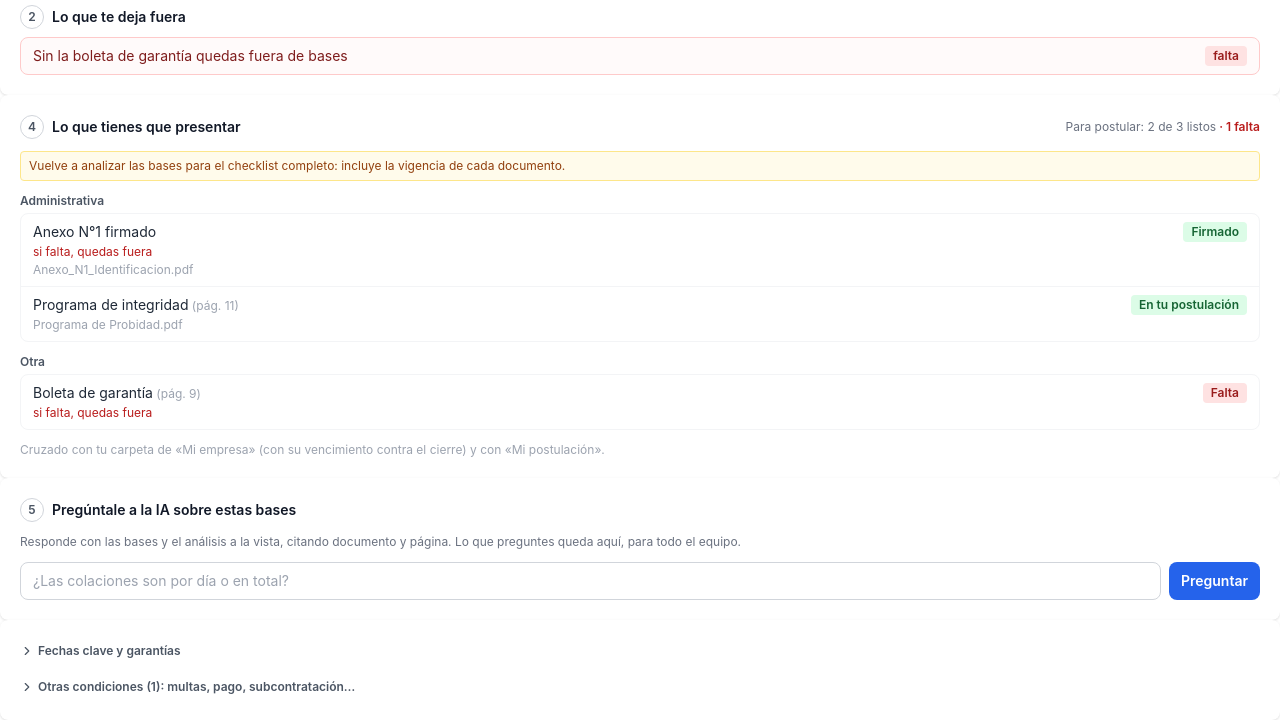
Scenario: Lo que piden las bases › arriba lo que te deja fuera, con su estado; las demás condiciones, plegadas
(page scrolled)
Expected: the text "falta" is shown, left=1205, top=46, right=1247, bottom=66
Expected: the text "Multa de 1% por día de atraso" is not shown
Click the button "Otras condiciones (1): multas, pago, subcontratación…".
click(188, 687)  # box left=20, top=679, right=355, bottom=695
(page scrolled)
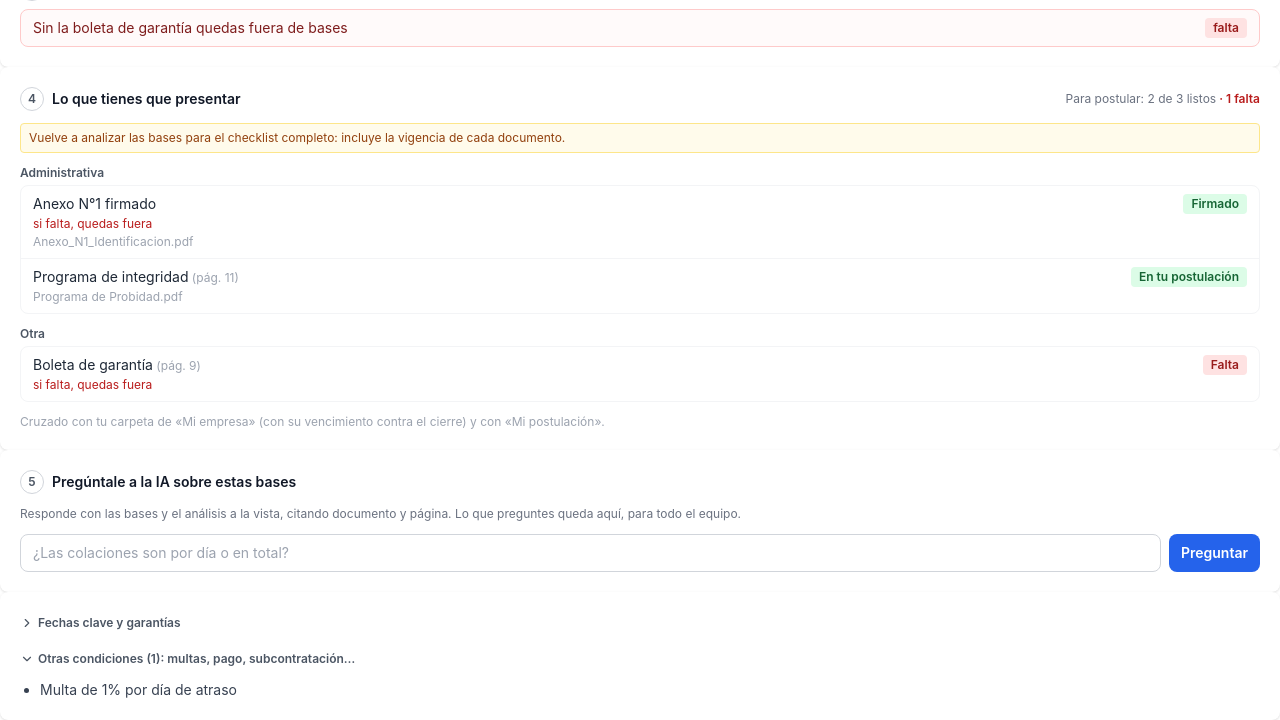
Now the list item "Multa de 1% por día de atraso" is shown, box left=40, top=681, right=237, bottom=698
